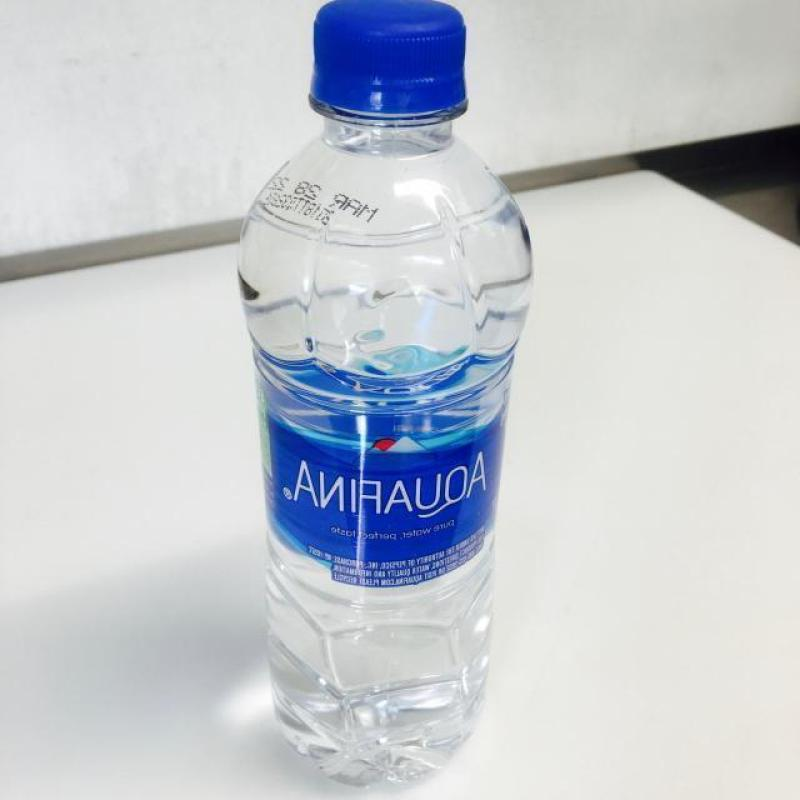botella: (240, 0, 536, 789)
